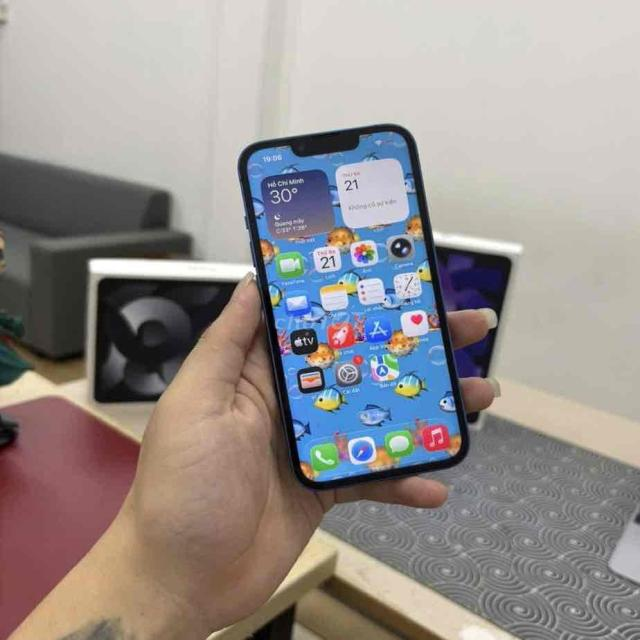gen_12_13: (236, 123, 472, 492)
